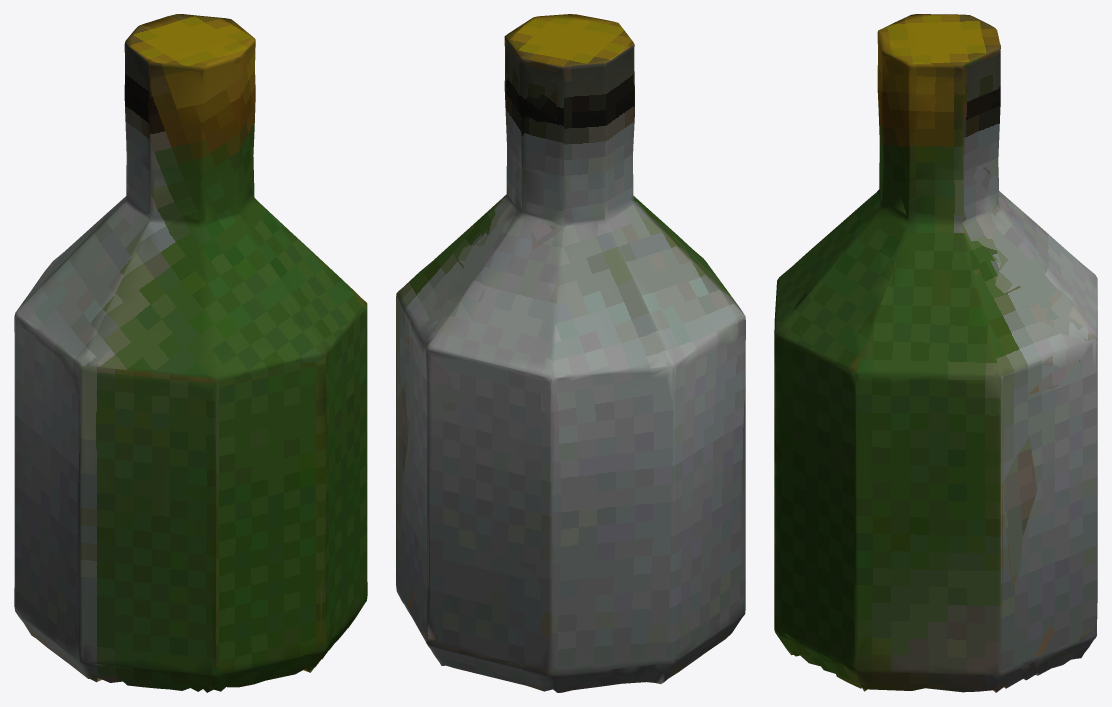
File: tavern_bottle_01_psx.glb
3 renders of one model, left to right at view 1: azimuth 30°, elevation 25°; view 2: azimuth 150°, elevation 25°; view 3: azimuth 270°, elevation 25°, orthographic.
Parts seen in each view (by area): view 1: tavern_bottle_01_psx; view 2: tavern_bottle_01_psx; view 3: tavern_bottle_01_psx.
Part boxes in pixels (x1,y1,x2,y2): tavern_bottle_01_psx: (14,14,367,692); tavern_bottle_01_psx: (396,14,745,692); tavern_bottle_01_psx: (774,14,1097,692).
Size of the model in its own units: 0.1255 by 0.2478 by 0.1224.
1 material, 1 textured.
